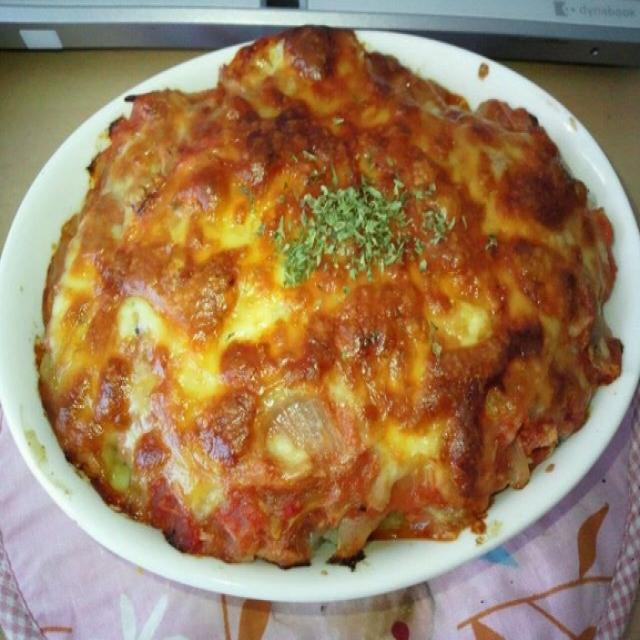米饭主食: (31, 41, 611, 592)
